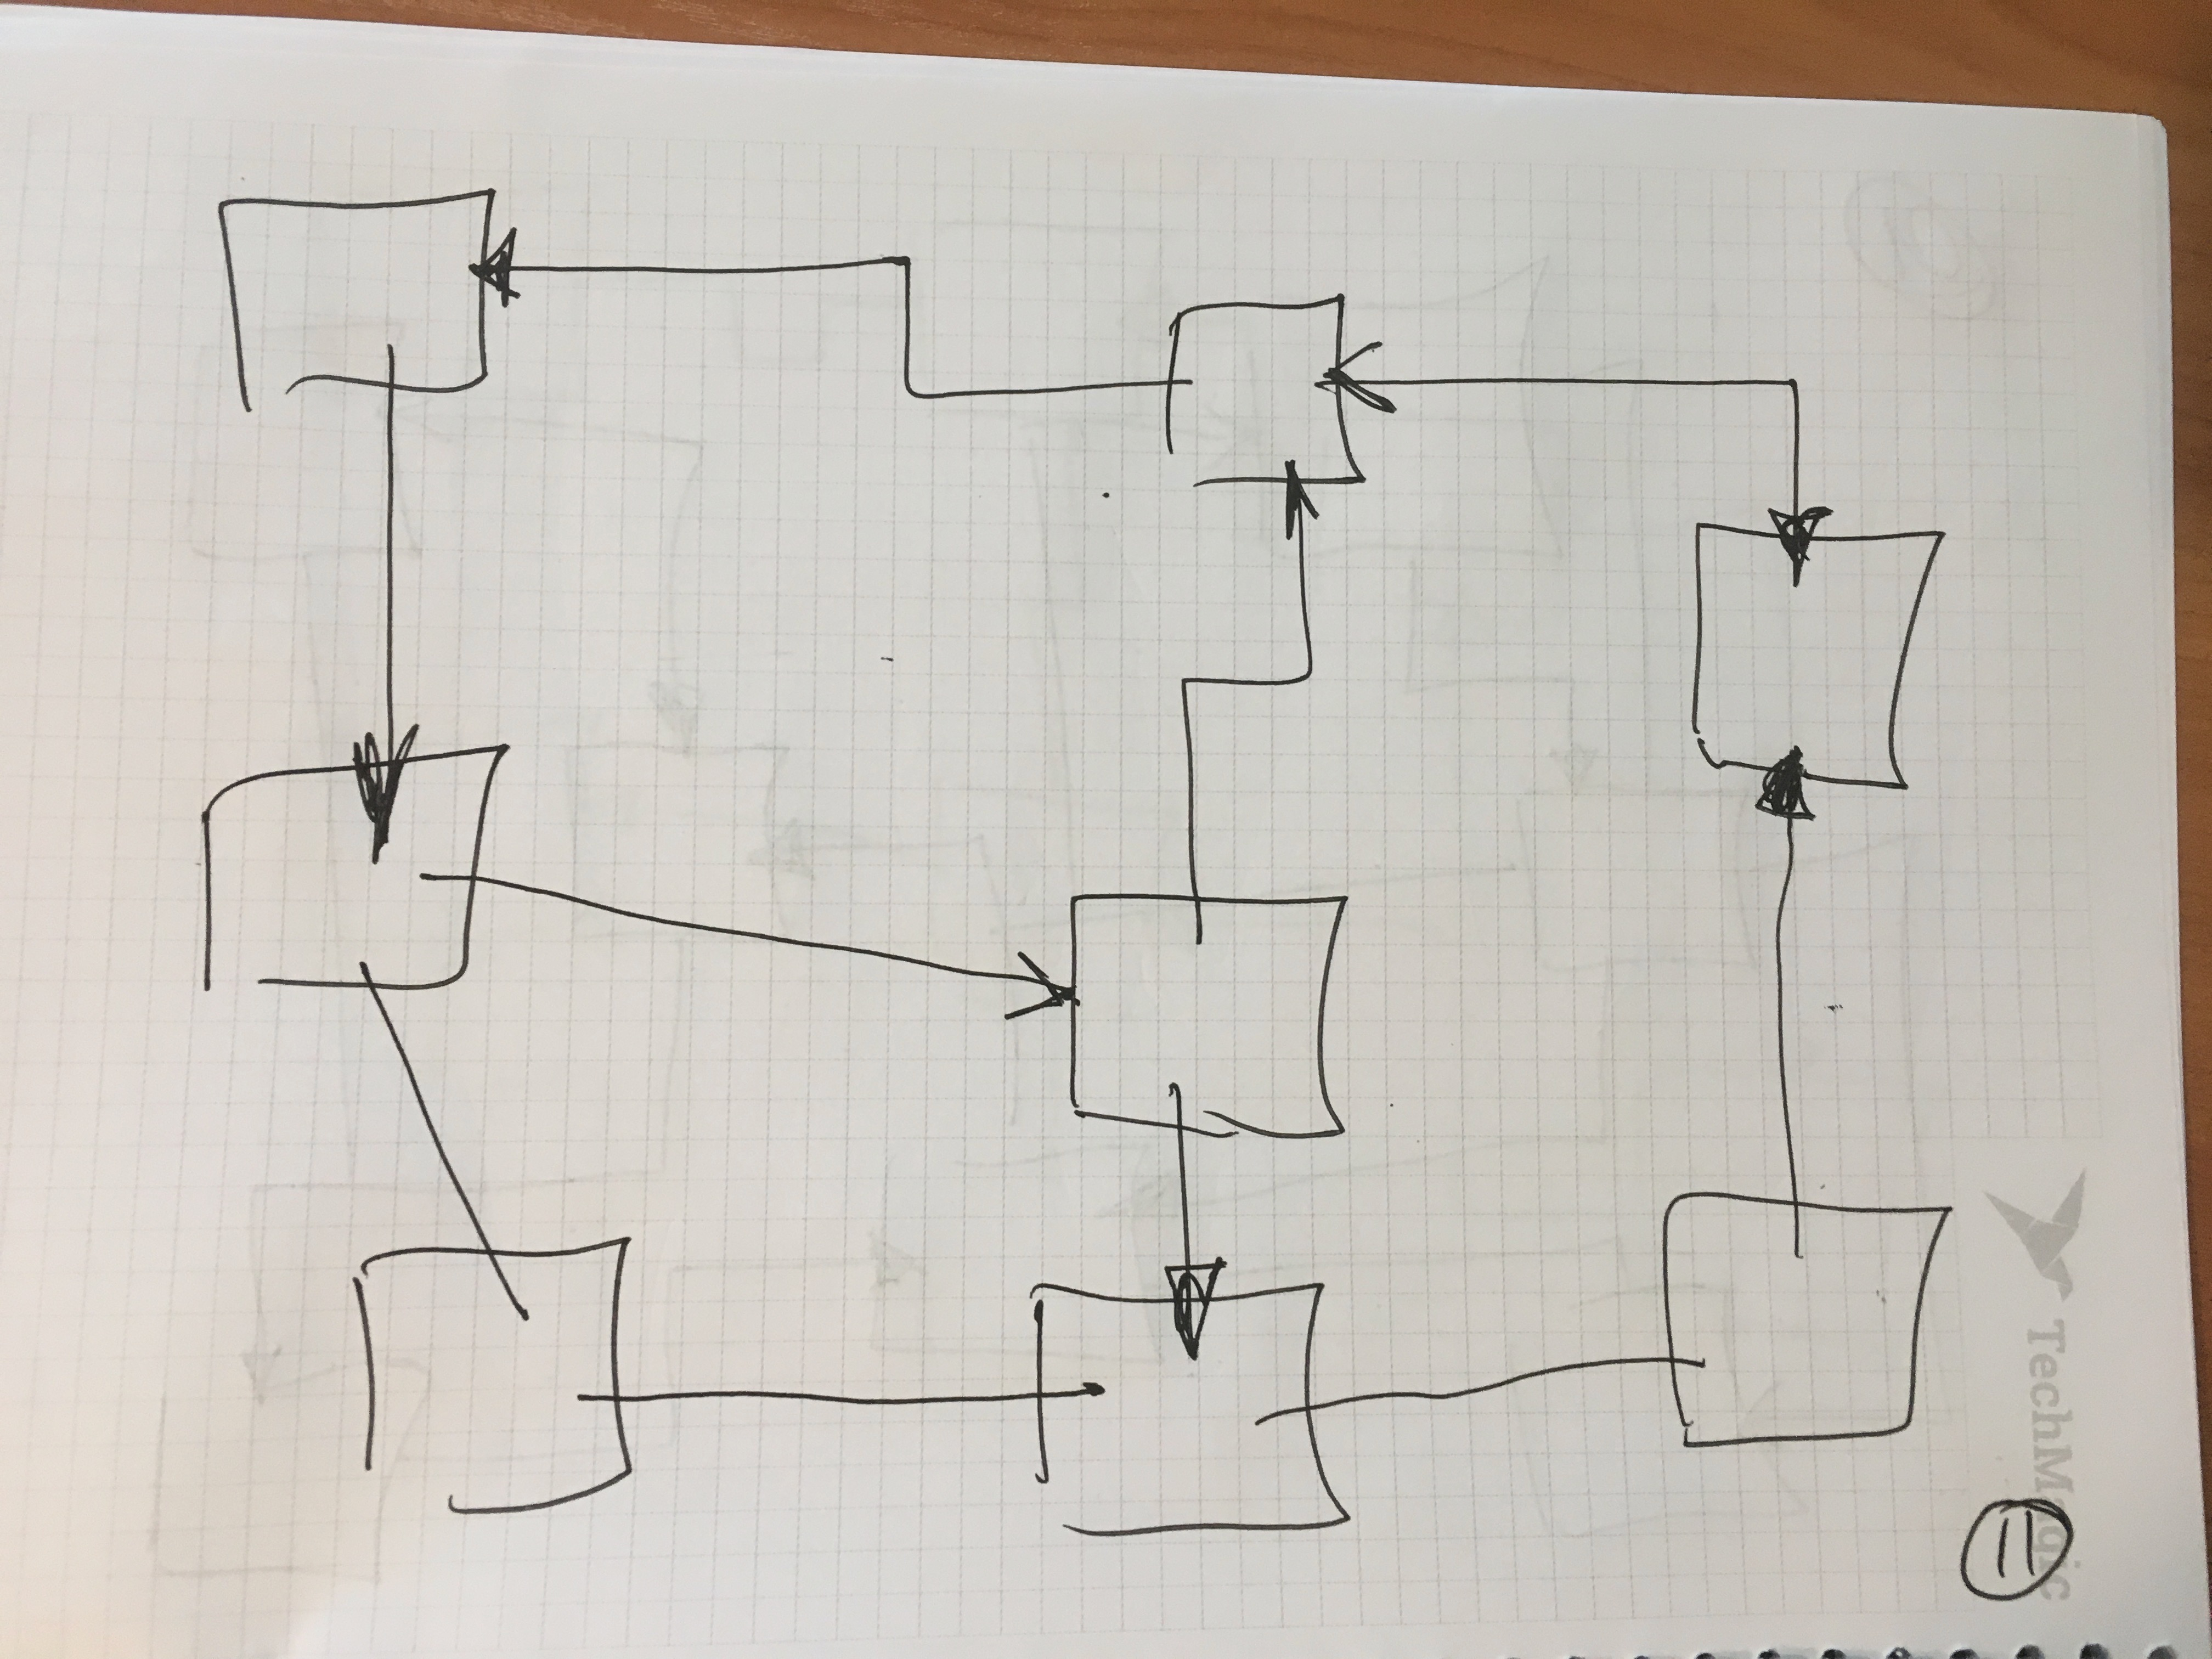arrow: (338, 699, 423, 864), (437, 223, 582, 319), (1303, 342, 1465, 413), (1749, 748, 1824, 894), (967, 946, 1085, 1037), (1160, 1241, 1231, 1361), (1766, 472, 1831, 599), (1273, 458, 1332, 572)
